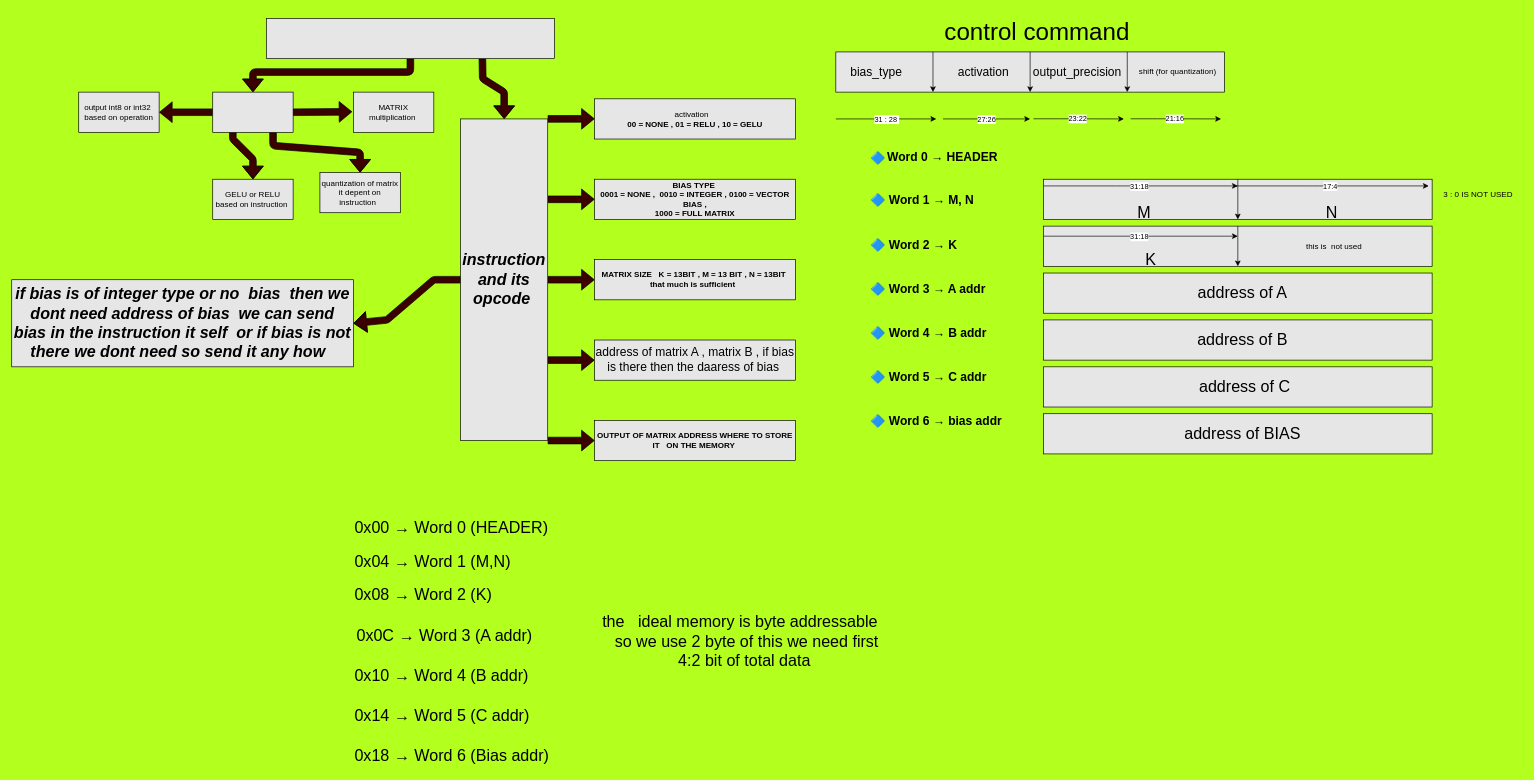
Image size: 1534x780. Some labels were removed from this diagram. The centre of each missing label's shape, as x and y in pixels:
command description: pixel 410 38
what operation can be possible by our npu: pixel 252 111
